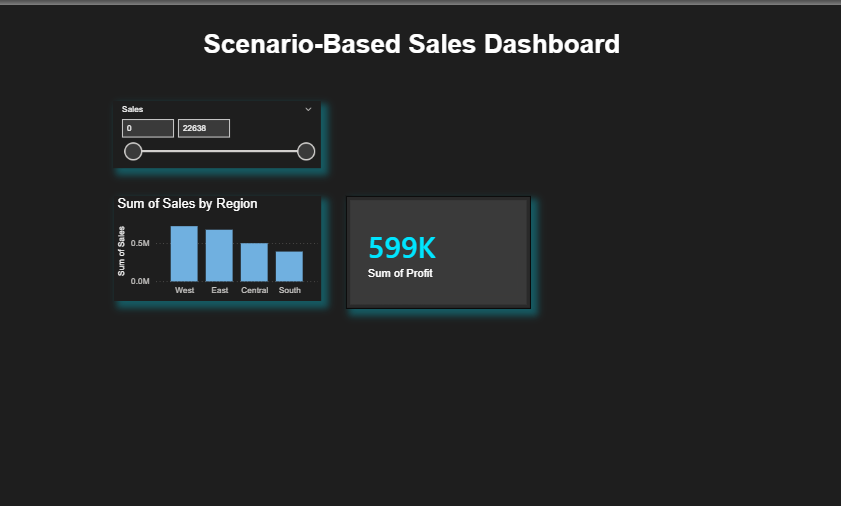

This screenshot's page, from the dashboard's own definition file:
{"tool":"powerbi","page":{"name":"Scenario-based dashboards","canvas":[1280,720],"ordinal":6},"visuals":[{"type":"textbox","box":[317.1,30,685.7,107.1],"z":0},{"type":"slicer","fields":{"Values":["Sheet3.Sales"]},"box":[193.3,136.7,296.7,95.6],"z":1000},{"type":"clusteredColumnChart","fields":{"Y":["Sum(Sheet3.Sales)"],"Category":["Sheet3.Region"]},"box":[193.8,272.5,296.2,150],"z":2000},{"type":"cardVisual","fields":{"Data":["Sum(Sheet3.Profit)"]},"box":[525.7,272.9,264.3,161.4],"z":3000}]}

Visuals, with their boxes on the page's 1280x720 design canvas (x1, y1, x2, y2). These are canvas units, not pixel positions in the 841x506 screenshot, which may show the page scaled, cropped or inside an application window:
textbox: x1=317 y1=30 x2=1003 y2=137
slicer - Sheet3.Sales: x1=193 y1=137 x2=490 y2=232
clusteredColumnChart - Sum(Sheet3.Sales) x Sheet3.Region: x1=194 y1=272 x2=490 y2=422
cardVisual - Sum(Sheet3.Profit): x1=526 y1=273 x2=790 y2=434
